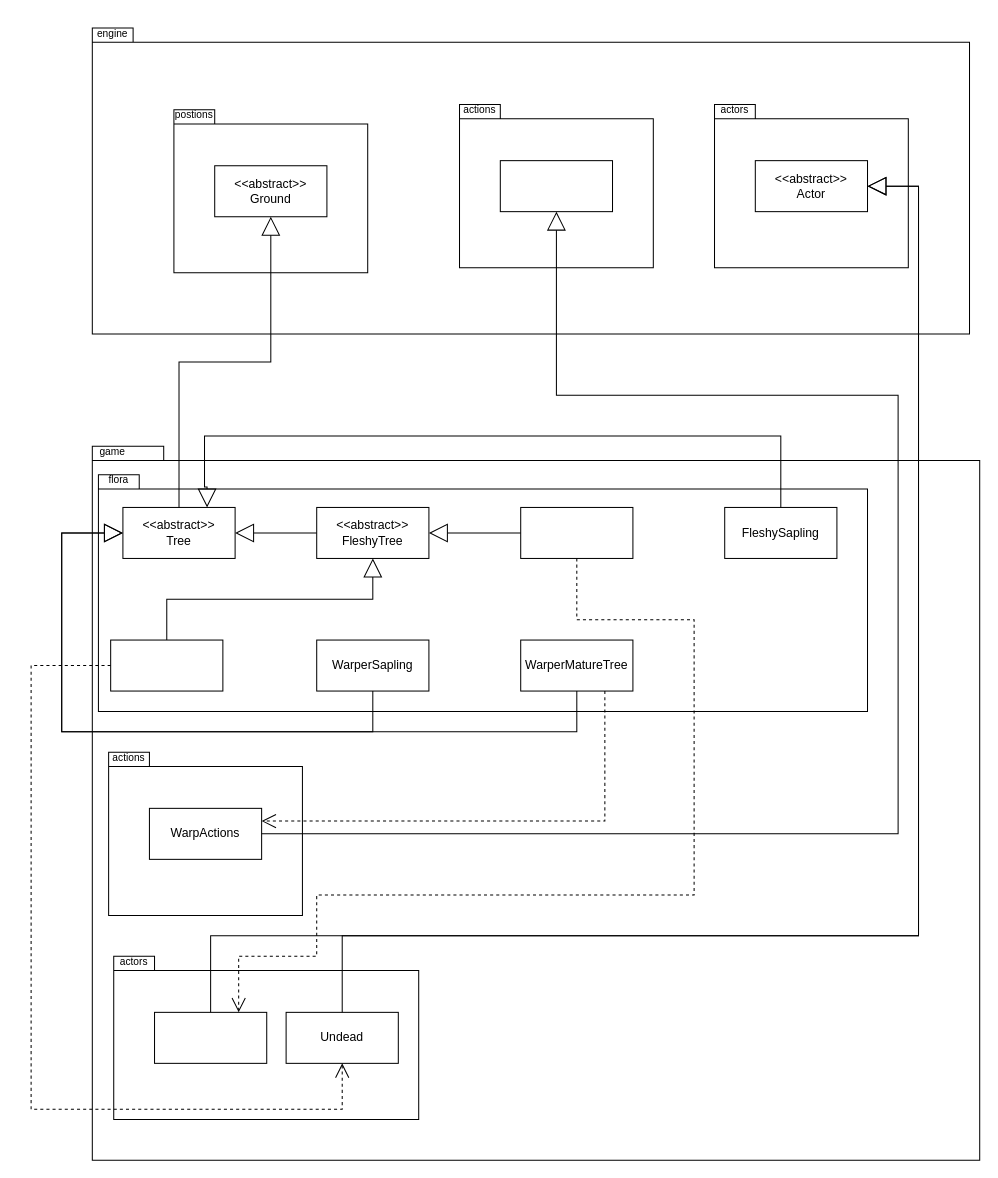
This 998x1178 diagram has some shape labels left out. Here are the shapes that lost their labels. From the top down, the centre of each, then its label:
At pixel 556 186: "<<abstract>> Action".
At pixel 576 532: "FleshySprout".
At pixel 166 665: "FleshyMatureTree".
At pixel 210 1037: "Slime".
